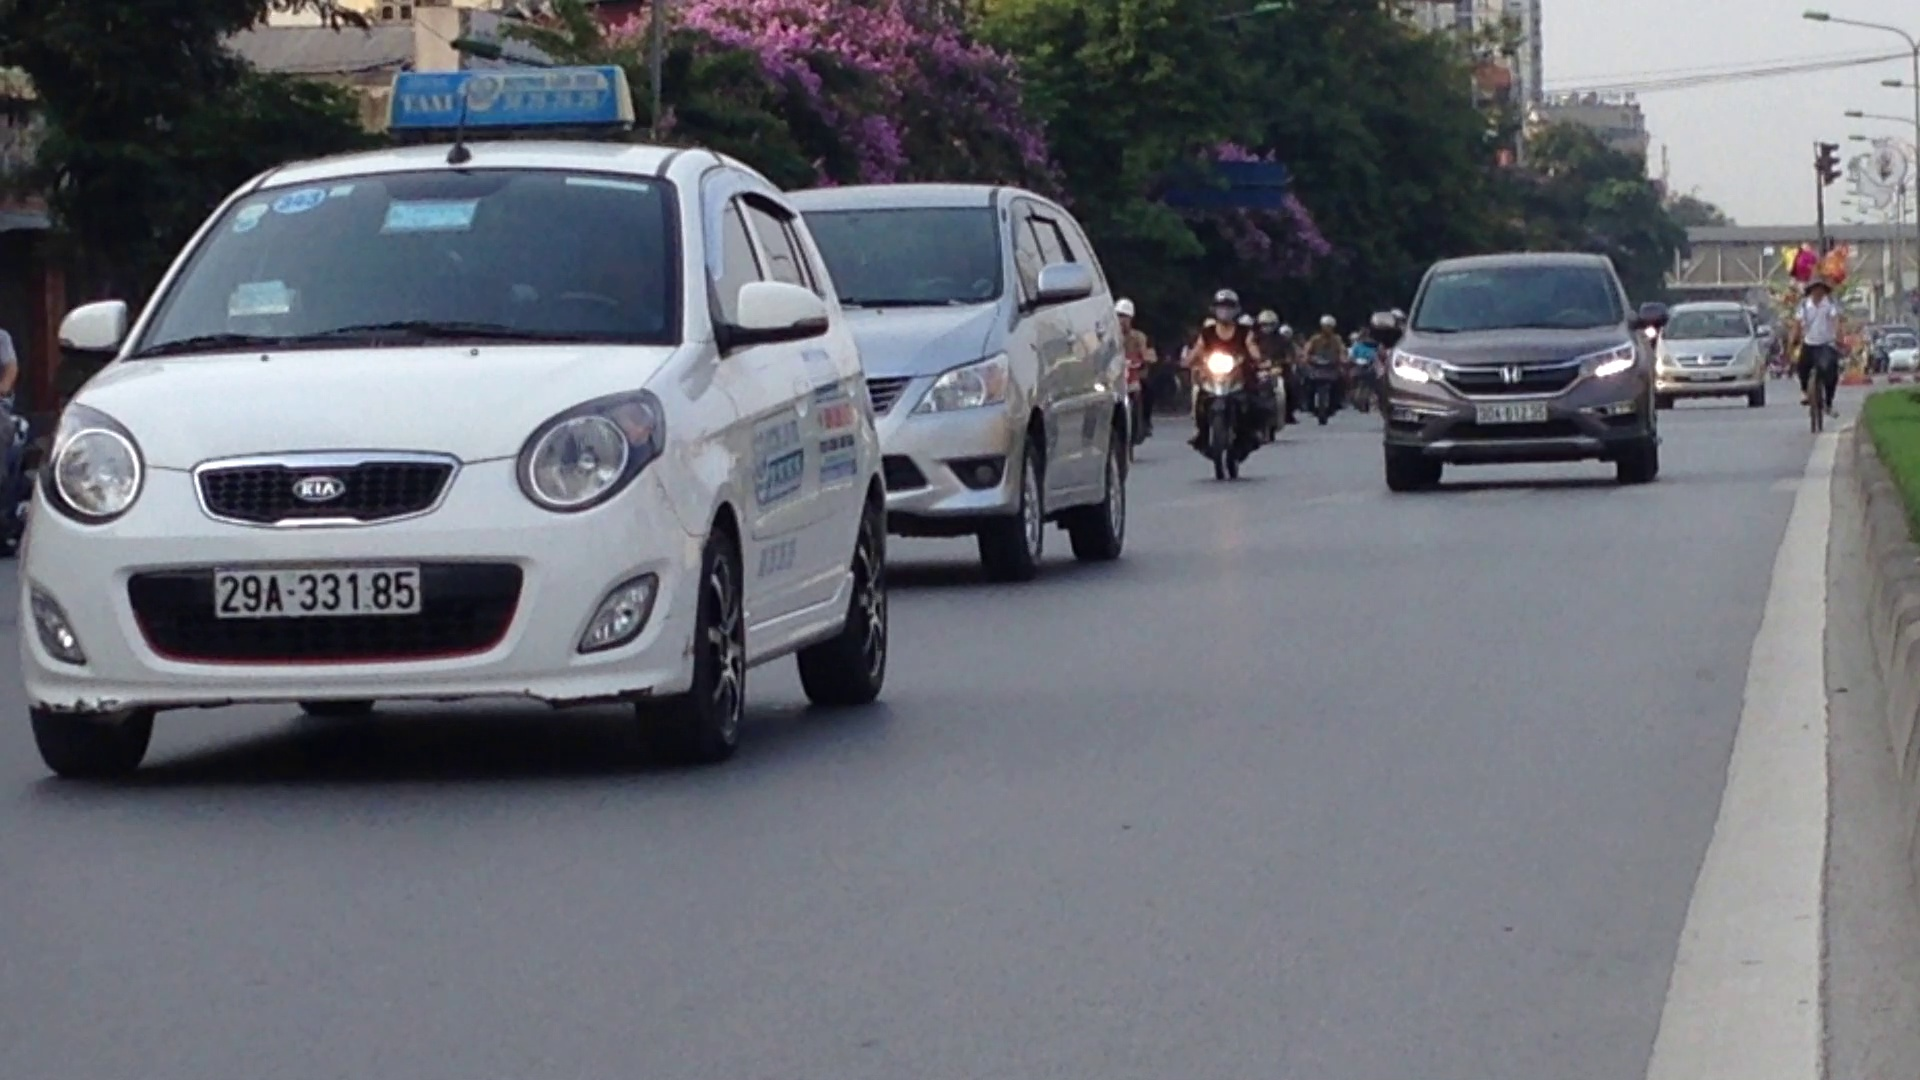vehicle-plate: (207, 565, 426, 618), (1470, 396, 1551, 425)
